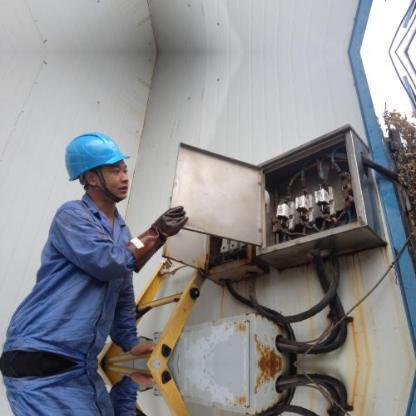helmet: (60, 128, 132, 186)
